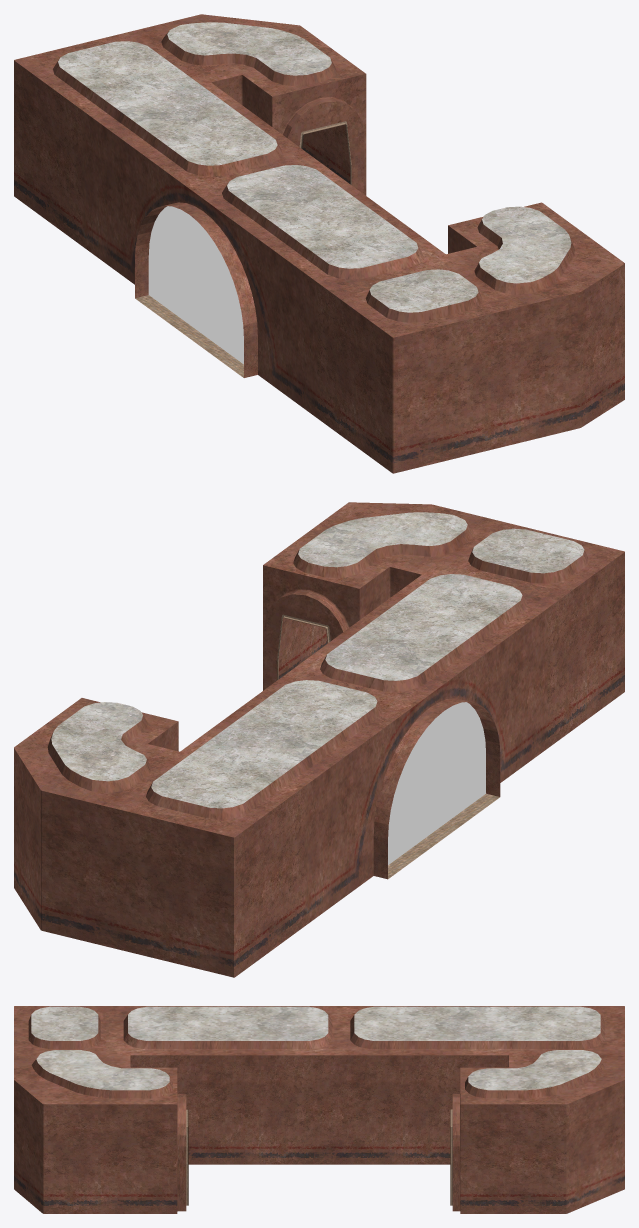
The model's file is thm_nboo_cantina_r10_office_hallway_mesh_r10.fbx.
3 views of the same model, one above another, from view 1: azimuth 30°, elevation 25°; view 2: azimuth 150°, elevation 25°; view 3: azimuth 270°, elevation 25° (orthographic). The views are drawn at different scales.
Parts seen in each view (by area): view 1: mesh_node; view 2: mesh_node; view 3: mesh_node.
Boxes of the visible parts, x1,y1,x2,y2 form: mesh_node: (14,14,624,473); mesh_node: (14,502,624,977); mesh_node: (14,1006,624,1213).
Bounding box in the file's own units: 8.44 × 4.41 × 21.
